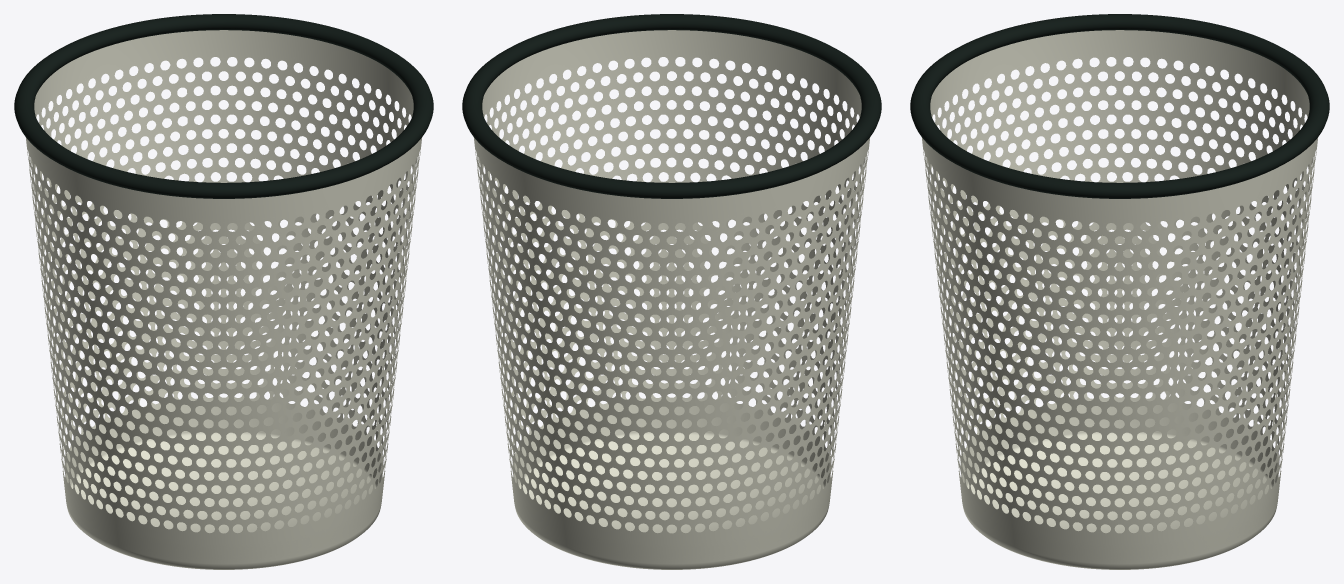
File: trash_can.glb
3 views of the same model, side by side, from view 1: azimuth 30°, elevation 25°; view 2: azimuth 150°, elevation 25°; view 3: azimuth 270°, elevation 25° (orthographic).
Parts seen in each view (by area): view 1: Ivory shell, open top and closed recessed base, Glossy black protective rolled rim; view 2: Ivory shell, open top and closed recessed base, Glossy black protective rolled rim; view 3: Ivory shell, open top and closed recessed base, Glossy black protective rolled rim.
Boxes of the visible parts, <box> form: Ivory shell, open top and closed recessed base: <box>25,30,422,569</box>; Glossy black protective rolled rim: <box>14,14,433,198</box>; Ivory shell, open top and closed recessed base: <box>473,30,870,569</box>; Glossy black protective rolled rim: <box>462,14,881,198</box>; Ivory shell, open top and closed recessed base: <box>921,30,1318,569</box>; Glossy black protective rolled rim: <box>910,14,1329,198</box>.
Size of the model in its own units: 0.2938 by 0.3136 by 0.2938.
Materials: 2 (1 with a texture image).
